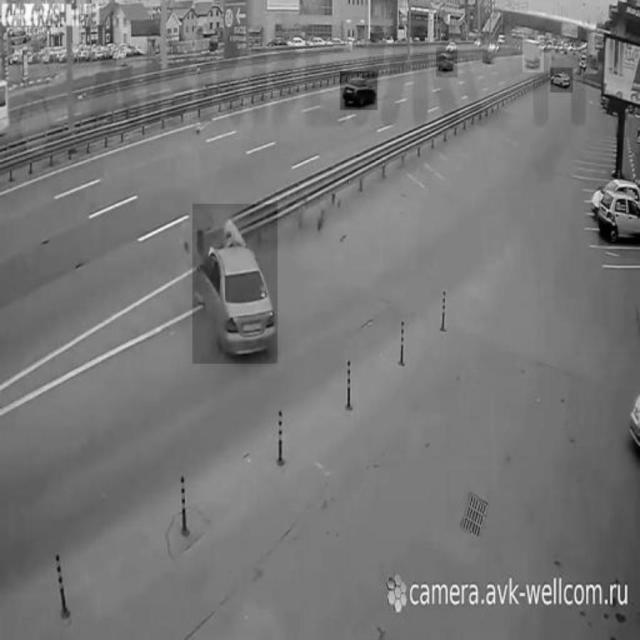accident: (192, 204, 278, 364)
vehicle: (599, 186, 640, 244), (341, 71, 378, 109), (523, 36, 543, 73), (436, 48, 456, 78), (549, 67, 573, 92)
